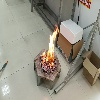fire: (42, 23, 59, 68)
